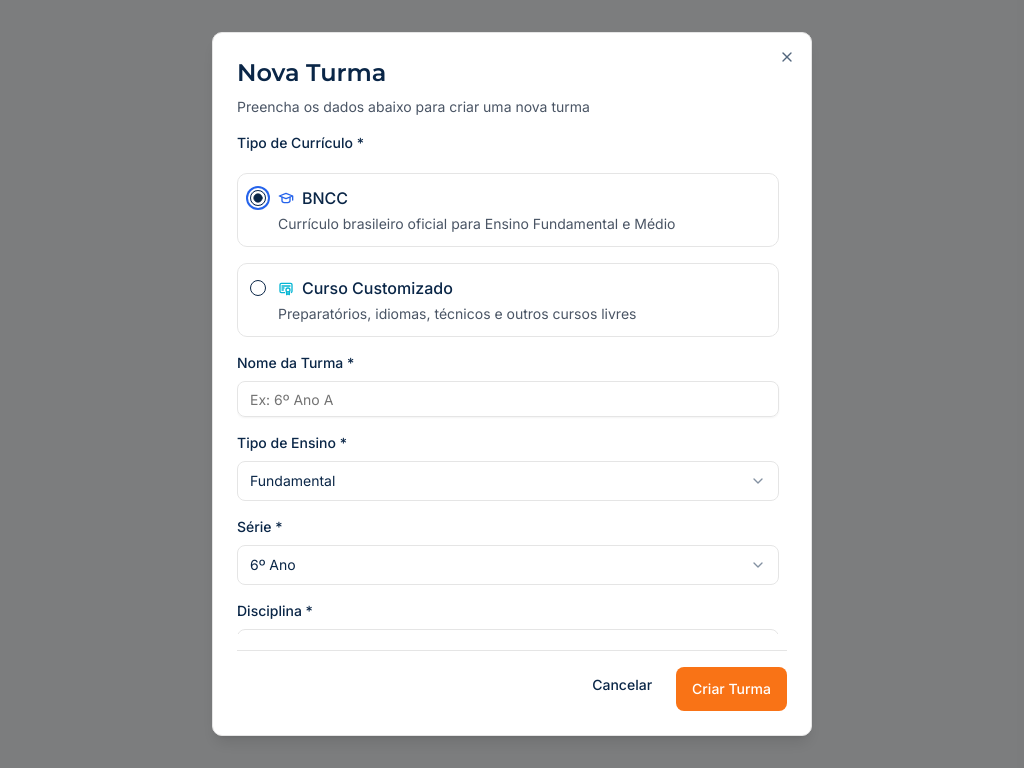
Test case: TurmaFormDialog › Contexto Pedagógico - Story 11.5 › should show contexto pedagogico fields when curriculo_tipo = CUSTOM
Click the radio button named "Curso Customizado" next to "Curso Customizado". click: (258, 288)
box: [250,280,266,296]
(page scrolled)
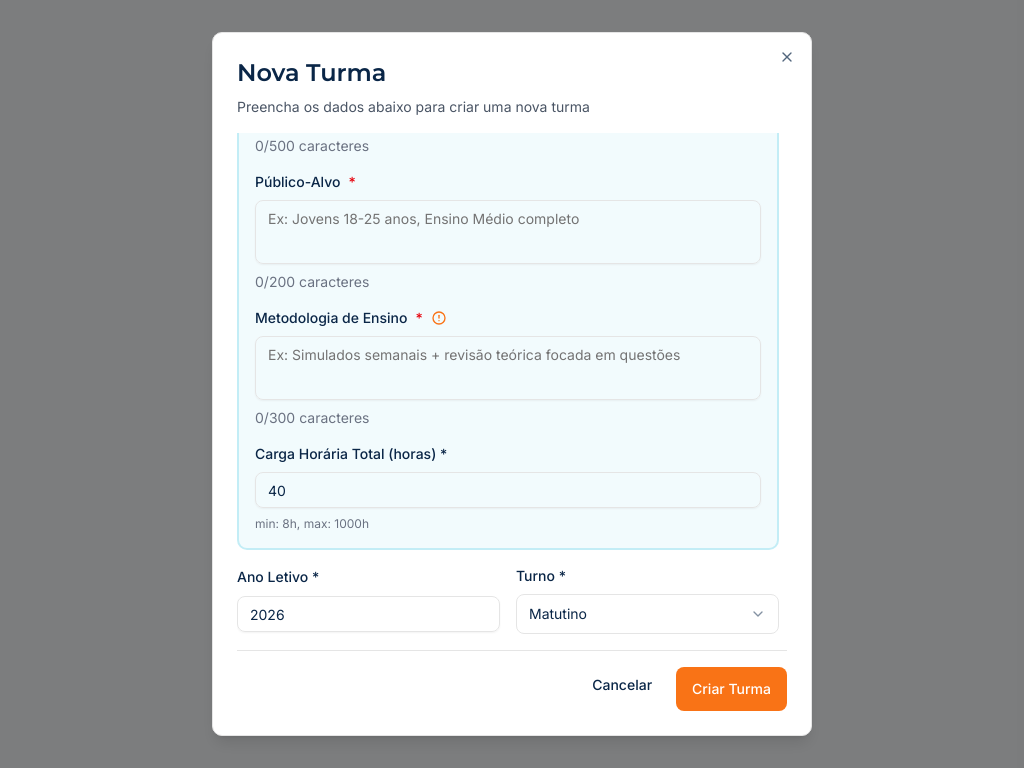
Expected: the text box labelled "Público-Alvo *" is shown, [255,200,761,264]
Expected: the text box labelled "Metodologia de Ensino *" is shown, [255,336,761,400]
Expected: the number field labelled "Carga Horária Total (horas) *" is shown, [255,472,761,508]
